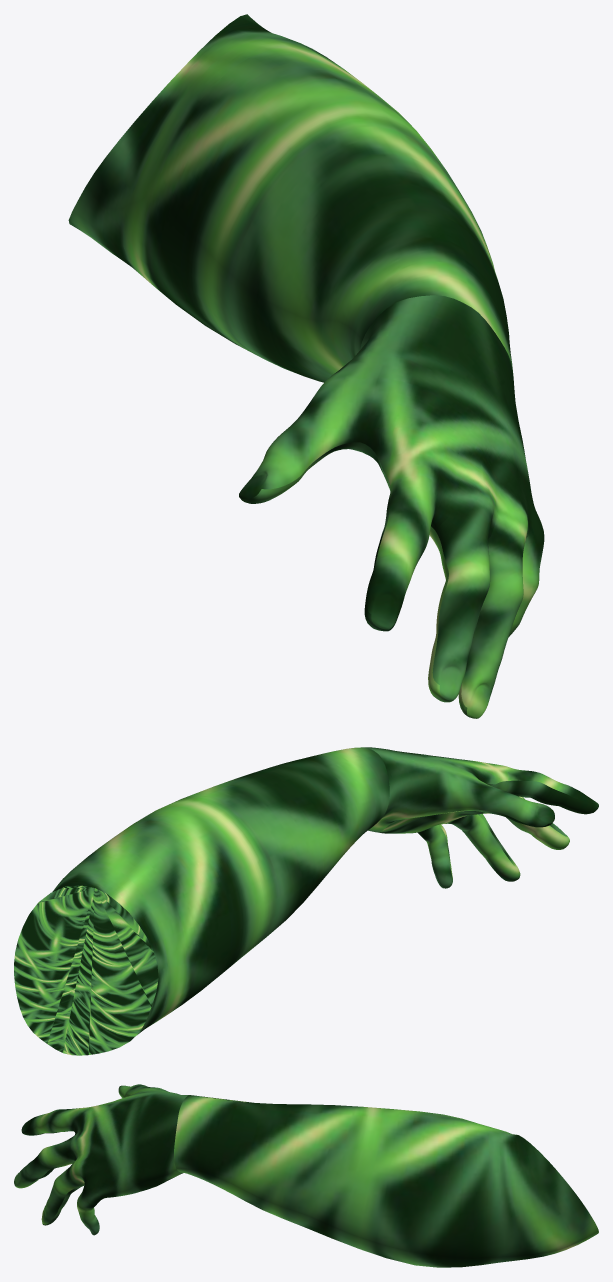
Rendered from grass-hand.glb.
3 views of the same model, one above another, from view 1: azimuth 30°, elevation 25°; view 2: azimuth 150°, elevation 25°; view 3: azimuth 270°, elevation 25° (orthographic). The views are drawn at different scales.
Visible parts, largest first — view 1: base.obj.sub 1; view 2: base.obj.sub 1; view 3: base.obj.sub 1.
Part boxes in pixels (<box>): base.obj.sub 1: <box>68,14,544,718</box>; base.obj.sub 1: <box>14,747,598,1055</box>; base.obj.sub 1: <box>14,1084,598,1267</box>.
Bounding box in the file's own units: 0.0223 × 0.0142 × 0.047.
Materials: 1 (1 with a texture image).
